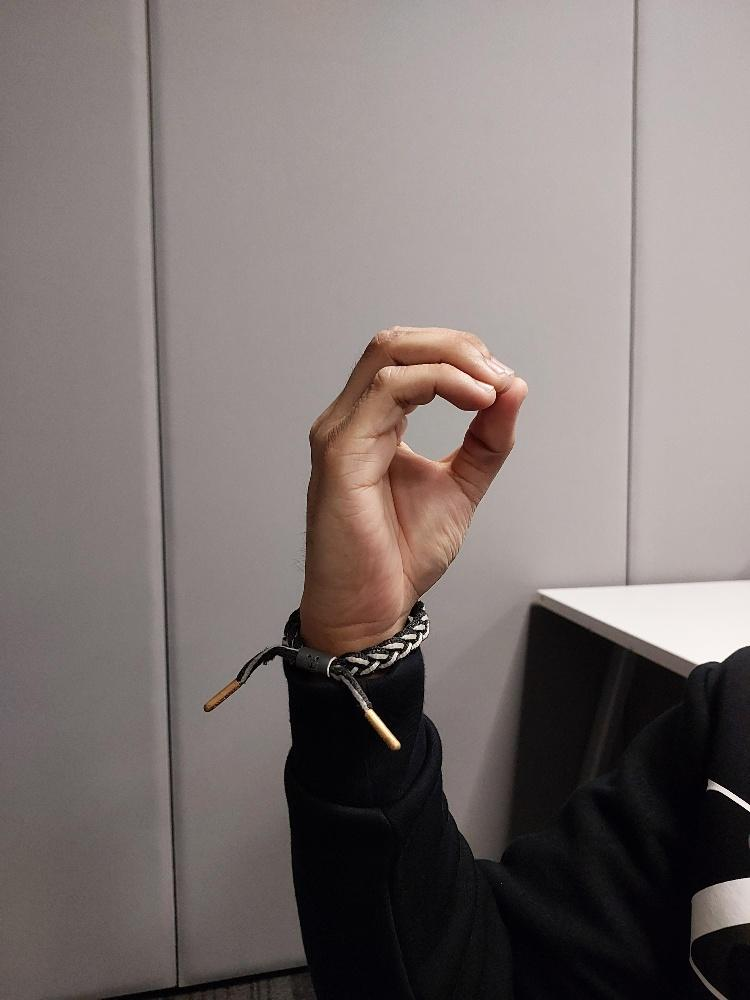o: (300, 323, 530, 625)
